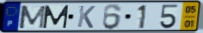1: (137, 4, 149, 29)
5: (159, 4, 179, 30)
6: (102, 3, 123, 31)
K: (77, 5, 97, 29)
M: (18, 5, 48, 30), (42, 4, 71, 29)
